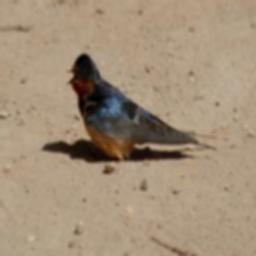Swallow: (66, 51, 215, 157)
